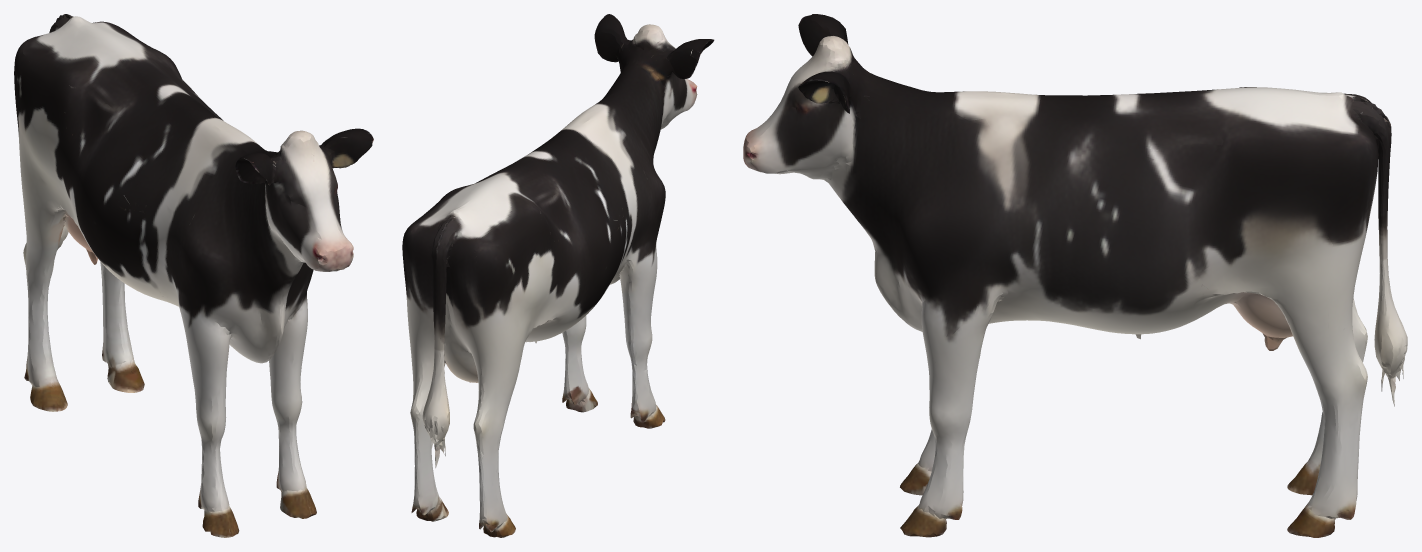
File: cow.glb
3 renders of one model, left to right at view 1: azimuth 30°, elevation 25°; view 2: azimuth 150°, elevation 25°; view 3: azimuth 270°, elevation 25°, orthographic. The views are drawn at different scales.
Visible parts, largest first — view 1: model; view 2: model; view 3: model.
Part boxes in pixels (x1,y1,x2,y2): model: (14, 14, 373, 537); model: (402, 14, 714, 537); model: (743, 14, 1407, 537).
Bounding box in the file's own units: 0.5758 × 1.48 × 1.9.
Materials: 1 (1 with a texture image).
